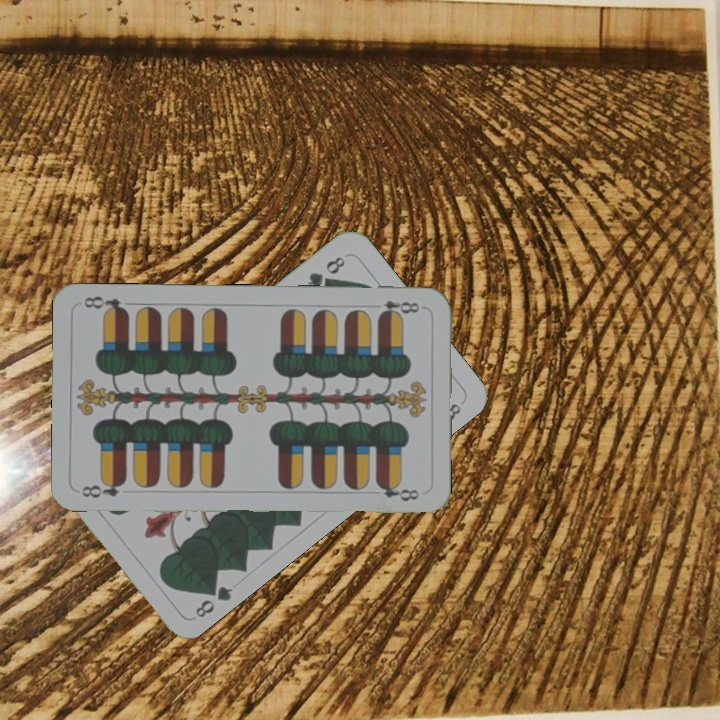E8: (367, 297, 422, 320), (78, 476, 129, 500)
G8: (191, 577, 235, 621), (302, 252, 348, 290)
